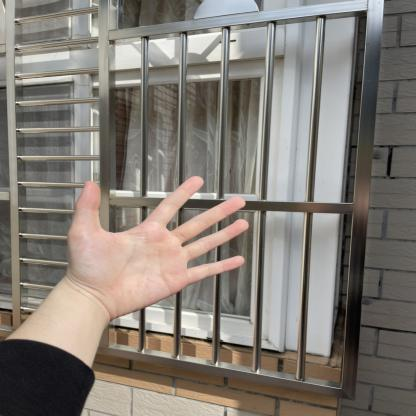bare_hand: (57, 169, 262, 327)
